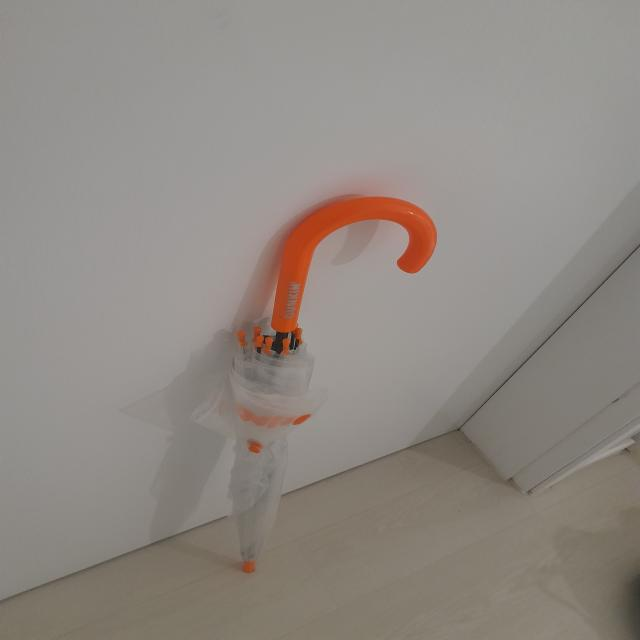umbrella: (230, 196, 434, 575)
